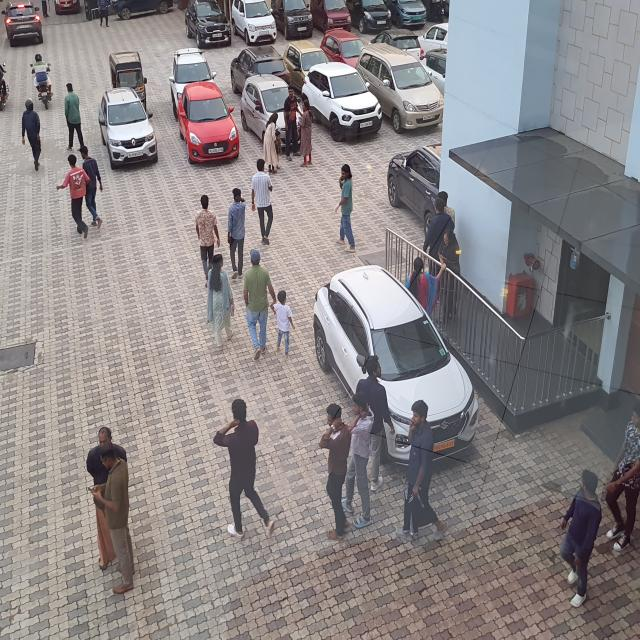humans: (212, 399, 278, 543), (84, 443, 140, 600), (400, 400, 450, 547), (558, 467, 603, 613), (75, 423, 118, 572), (356, 354, 396, 496), (318, 400, 357, 543), (608, 397, 640, 563), (348, 390, 380, 533), (242, 244, 273, 363), (55, 152, 90, 242), (204, 252, 236, 347), (78, 141, 108, 239), (191, 192, 216, 292), (406, 257, 446, 316), (250, 159, 276, 248), (439, 230, 463, 324), (421, 198, 451, 272), (334, 163, 358, 255), (224, 187, 246, 281), (60, 80, 85, 152), (20, 99, 44, 172), (274, 287, 297, 363), (282, 84, 300, 164), (298, 98, 316, 170), (438, 184, 464, 231), (262, 110, 278, 178), (29, 53, 55, 91), (274, 128, 284, 173)
